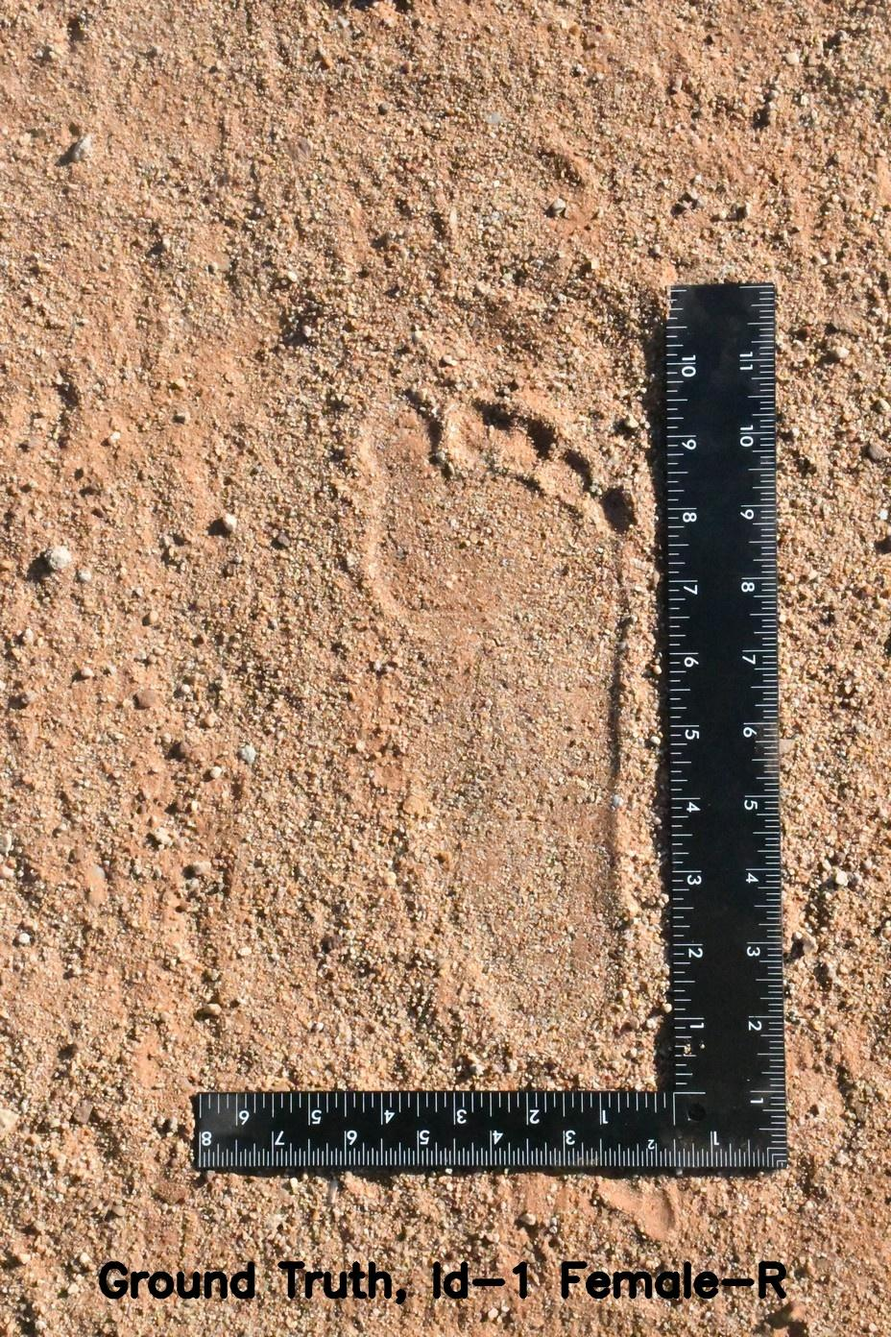human_foot_print: (311, 343, 666, 1095)
